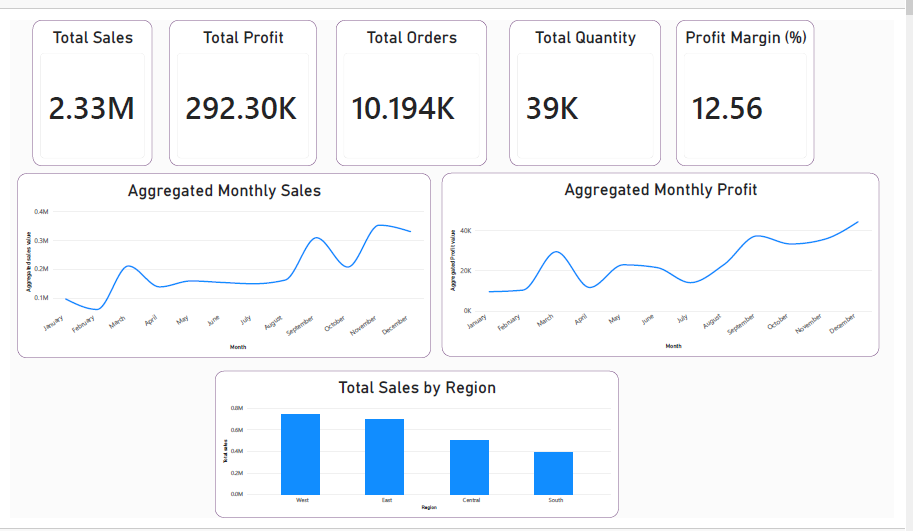

What the dashboard file says about the page in this screenshot:
{"tool":"powerbi","page":{"name":"Executive Overview","canvas":[1920,1080],"ordinal":0},"visuals":[{"type":"cardVisual","title":"Total Sales","fields":{"Data":["Sum(samplesuperstore.Sales)"]},"box":[49.2,0,260.2,316.5],"z":0},{"type":"cardVisual","title":"Total Profit","fields":{"Data":["Sum(samplesuperstore.Profit)"]},"box":[345.7,0,320,317.1],"z":1000},{"type":"cardVisual","title":"Total Orders","fields":{"Data":["CountNonNull(samplesuperstore.Order ID)"]},"box":[708,0,328.2,316.5],"z":2000},{"type":"cardVisual","title":"Total Quantity","fields":{"Data":["Sum(samplesuperstore.Quantity)"]},"box":[1085.5,0,328.2,316.5],"z":3000},{"type":"cardVisual","title":"Profit Margin (%)","fields":{"Data":["samplesuperstore.Profit Margin"]},"box":[1446.5,0,300.1,316.5],"z":4000},{"type":"lineChart","title":"Aggregated Monthly Sales","fields":{"Category":["samplesuperstore.Month Name"],"Y":["Sum(samplesuperstore.Sales)"]},"box":[16.4,332.9,897.9,400.9],"z":5000},{"type":"lineChart","title":"Aggregated Monthly Profit","fields":{"Category":["samplesuperstore.Month Name"],"Y":["Sum(samplesuperstore.Profit)"]},"box":[938.3,331.7,949.6,399.7],"z":6000},{"type":"clusteredColumnChart","title":"Total Sales by Region","fields":{"Category":["samplesuperstore.Region"],"Y":["Sum(samplesuperstore.Sales)"]},"box":[445.5,762,876.8,318.8],"z":7000}]}

Visuals, with their boxes on the page's 1920x1080 design canvas (x1, y1, x2, y2). These are canvas units, not pixel positions in the 913x531 screenshot, which may show the page scaled, cropped or inside an application window:
"Total Sales" cardVisual: pyautogui.locateOnScreen(49, 0, 309, 316)
"Total Profit" cardVisual: pyautogui.locateOnScreen(346, 0, 666, 317)
"Total Orders" cardVisual: pyautogui.locateOnScreen(708, 0, 1036, 316)
"Total Quantity" cardVisual: pyautogui.locateOnScreen(1086, 0, 1414, 316)
"Profit Margin (%)" cardVisual: pyautogui.locateOnScreen(1446, 0, 1747, 316)
"Aggregated Monthly Sales" lineChart: pyautogui.locateOnScreen(16, 333, 914, 734)
"Aggregated Monthly Profit" lineChart: pyautogui.locateOnScreen(938, 332, 1888, 731)
"Total Sales by Region" clusteredColumnChart: pyautogui.locateOnScreen(446, 762, 1322, 1081)
